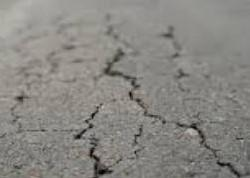alligator-crack: (104, 13, 134, 75), (130, 95, 181, 126), (26, 119, 71, 147), (181, 116, 214, 152), (62, 116, 94, 151), (170, 59, 198, 97), (81, 102, 107, 141), (85, 149, 121, 177), (211, 154, 248, 178), (8, 92, 31, 126), (125, 127, 156, 152), (164, 17, 182, 57), (123, 78, 153, 95), (3, 128, 30, 143), (123, 69, 146, 85), (106, 92, 128, 108), (122, 152, 145, 165)
